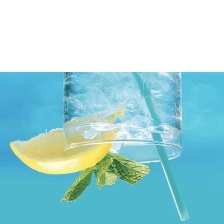drinking_straw: (130, 69, 192, 223)
glass: (56, 71, 187, 164)
